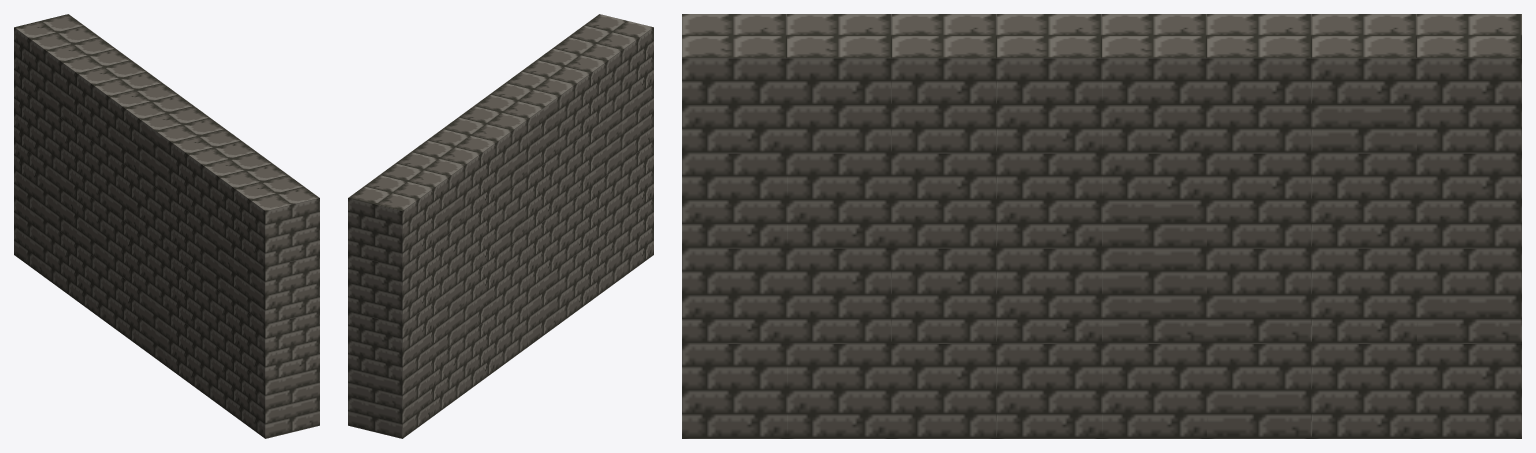
File: Foundation_Full_x8.fbx
3 renders of one model, left to right at view 1: azimuth 30°, elevation 25°; view 2: azimuth 150°, elevation 25°; view 3: azimuth 270°, elevation 25°, orthographic. The views are drawn at different scales.
Parts seen in each view (by area): view 1: Foundation_Full_x8; view 2: Foundation_Full_x8; view 3: Foundation_Full_x8.
Part boxes in pixels (x1,y1,x2,y2): Foundation_Full_x8: (14,14,319,438); Foundation_Full_x8: (348,14,653,438); Foundation_Full_x8: (682,14,1521,438).
Bounding box in the file's own units: 200 × 800 × 1600.
Materials: 1 (1 with a texture image).
